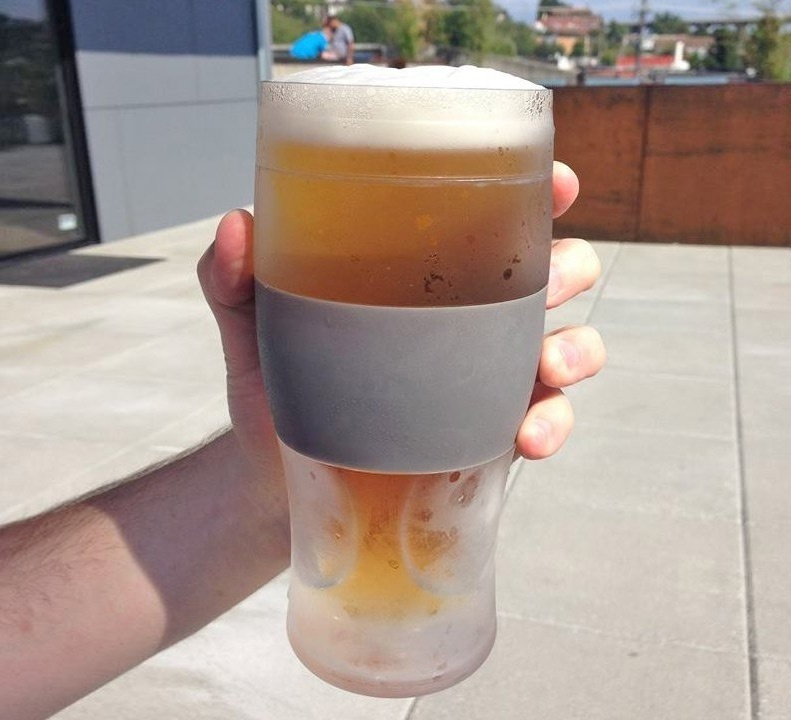whiskey: (225, 73, 554, 698)
